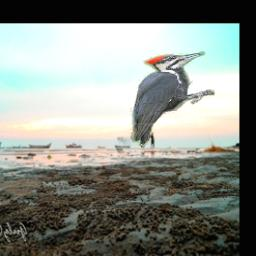Woodpecker: (127, 51, 215, 147)
